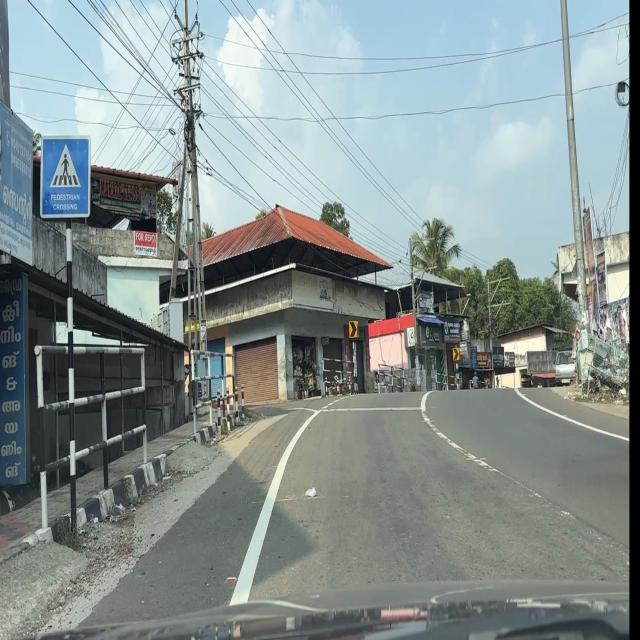PEDESTRIAN_CROSSING: (39, 134, 92, 220)
TURN_RIGHT: (349, 321, 357, 338), (452, 347, 460, 361)
